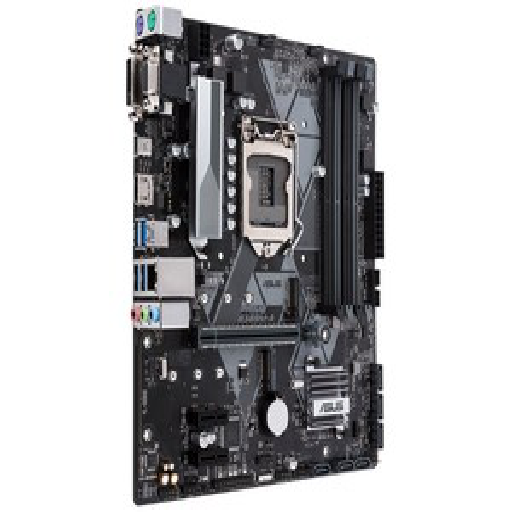CPU: (238, 116, 295, 255)
GPU: (186, 321, 324, 351)
MOTHERBOARD: (132, 6, 378, 504)
RAM: (323, 53, 364, 317)
SSD: (259, 347, 277, 392), (287, 277, 304, 315)
